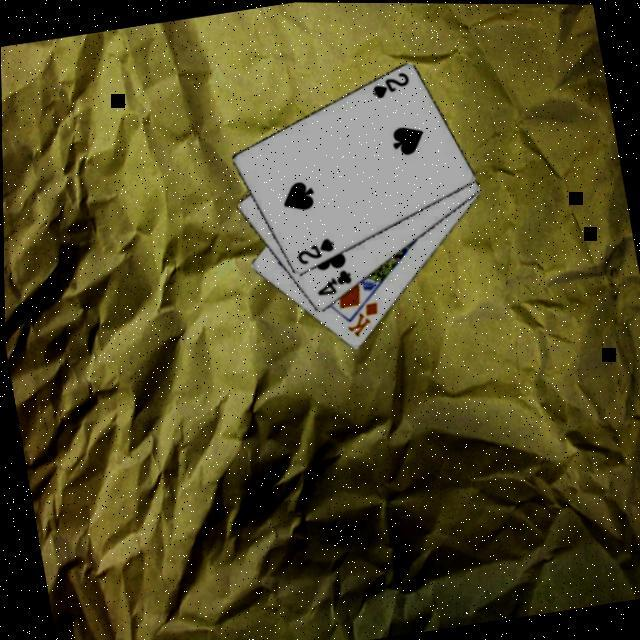2S: (290, 233, 337, 267), (365, 68, 412, 102)
4C: (309, 264, 355, 298)
KD: (338, 296, 384, 340)
